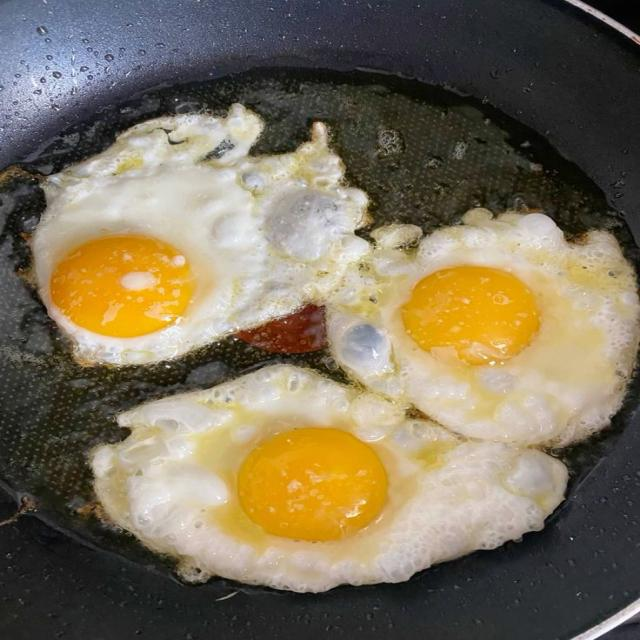fryed egg: (92, 365, 566, 591), (32, 105, 367, 364), (328, 210, 639, 444)
